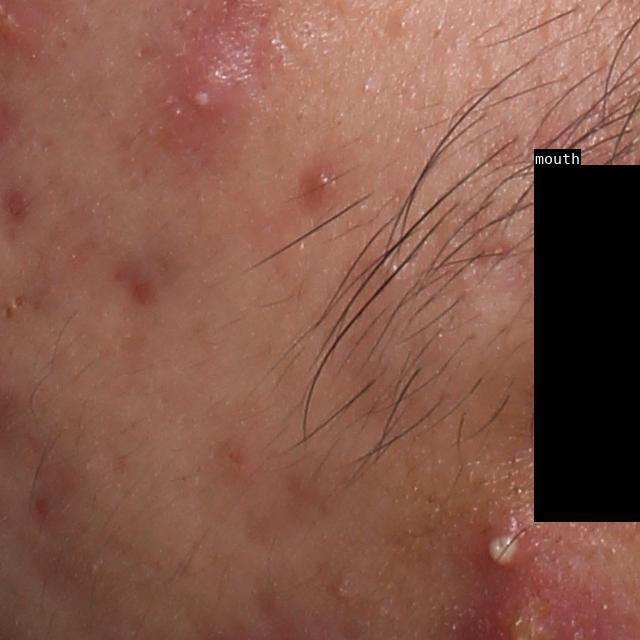comedo: (329, 575, 356, 602), (390, 14, 411, 36), (12, 292, 26, 311)
pustule: (174, 37, 263, 150)
